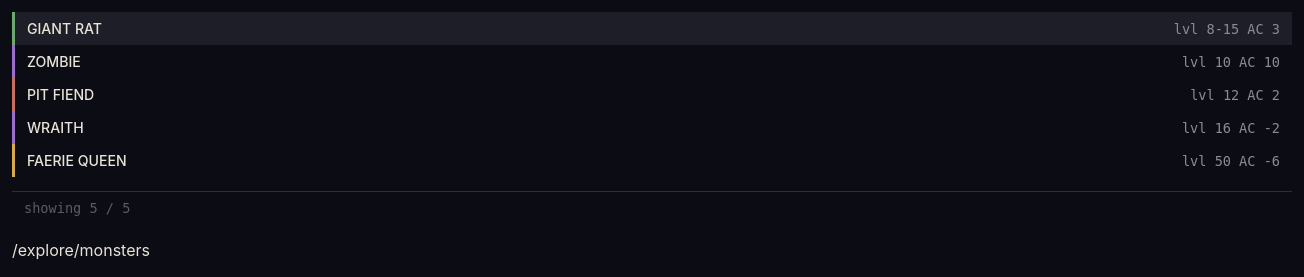
MonsterList › clicking a row navigates to /explore/monsters/:slug
The width and height of the screenshot is (1304, 277).
Click the text "GIANT RAT": (64, 28) 27,20 -> 102,37
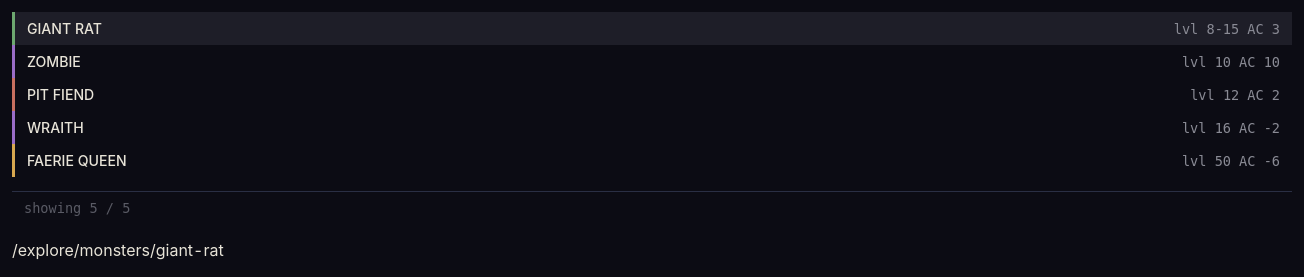
Expected: the text with test id "location" reads "/explore/monsters/giant-rat", 12,240 -> 224,260
